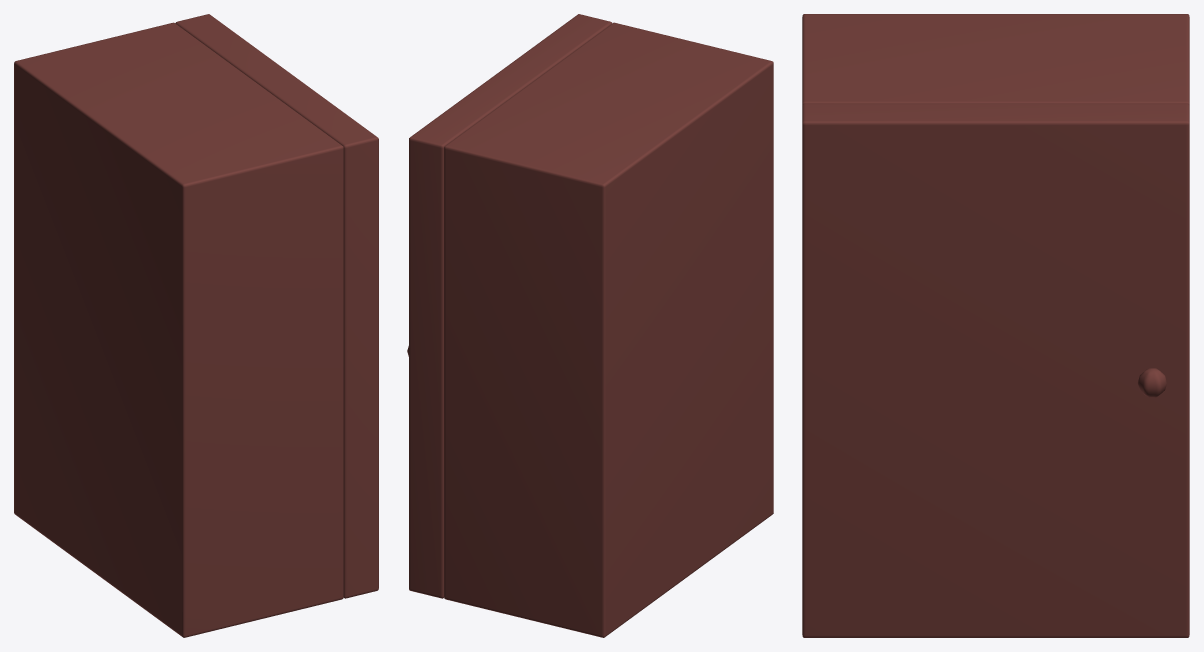
Rendered from storage_cabinet.glb.
3 renders of one model, left to right at view 1: azimuth 30°, elevation 25°; view 2: azimuth 150°, elevation 25°; view 3: azimuth 270°, elevation 25°, orthographic. The views are drawn at different scales.
Visible parts, largest first — view 1: BigFuniture.Door, BigFuniture.Door.001; view 2: BigFuniture.Door, BigFuniture.Door.001; view 3: BigFuniture.Door.001, BigFuniture.Door.
Boxes of the visible parts, x1,y1,x2,y2 form: BigFuniture.Door: [14, 22, 343, 637]; BigFuniture.Door.001: [175, 14, 378, 598]; BigFuniture.Door: [444, 22, 773, 637]; BigFuniture.Door.001: [407, 14, 612, 598]; BigFuniture.Door.001: [802, 103, 1189, 637]; BigFuniture.Door: [802, 14, 1189, 105].
Bounding box in the file's own units: 0.6517 × 1.34 × 0.9106.
Materials: 1 (1 with a texture image).
